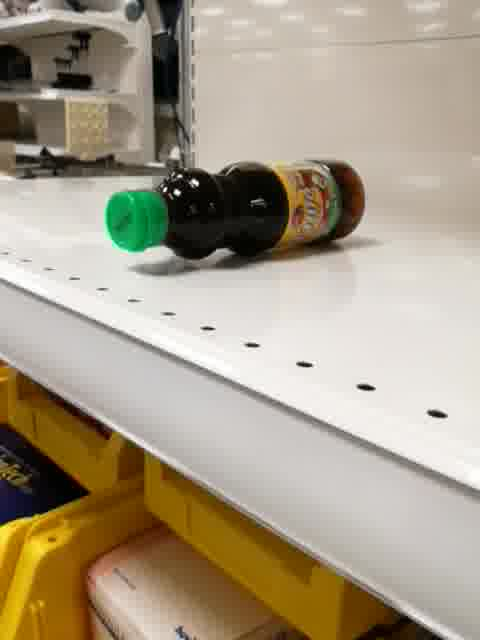cookingoil: (102, 155, 369, 261)
